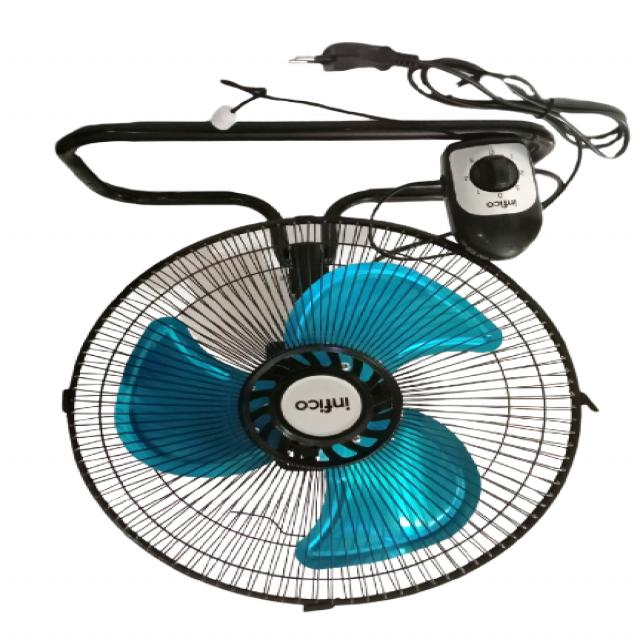fan: (45, 41, 610, 612)
